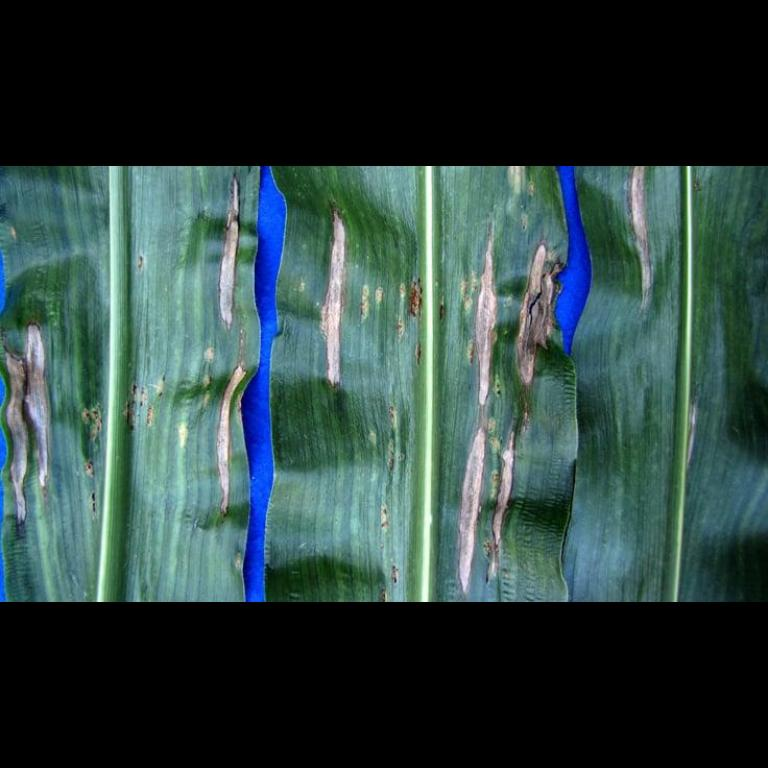blight: (446, 228, 554, 602), (304, 188, 372, 419), (208, 166, 252, 340)
